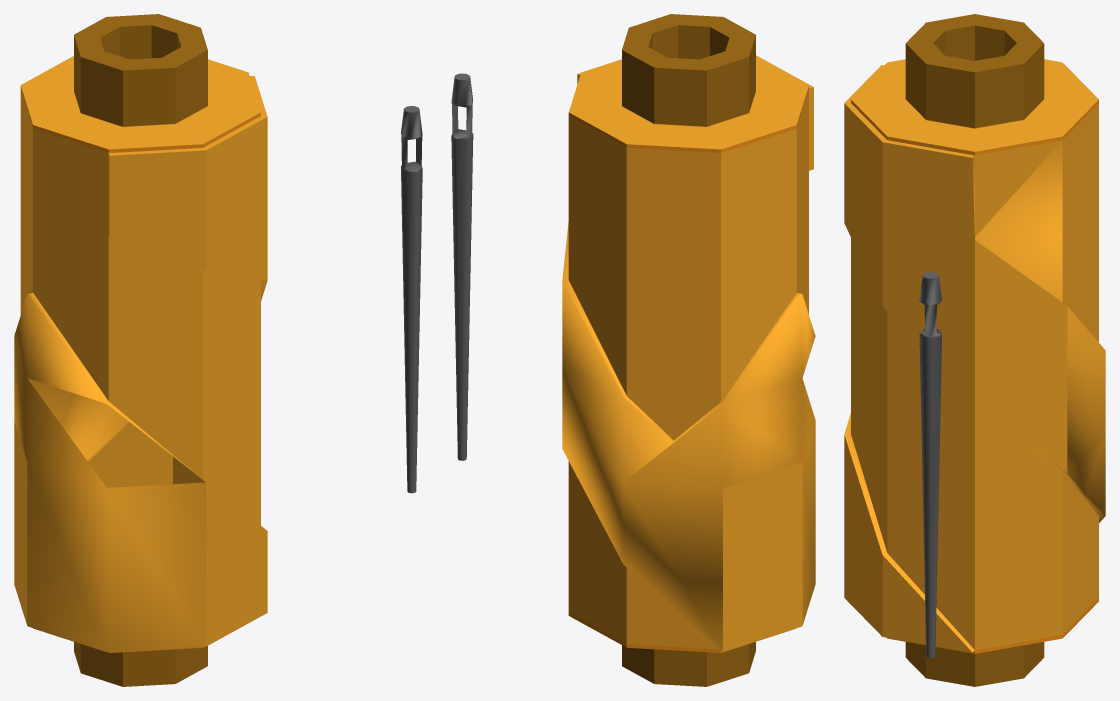
File: cuon-chi.glb
3 renders of one model, left to right at view 1: azimuth 30°, elevation 25°; view 2: azimuth 150°, elevation 25°; view 3: azimuth 270°, elevation 25°, orthographic.
Visible parts, largest first — view 1: cuon-chi; view 2: cuon-chi; view 3: cuon-chi.
Boxes of the visible parts, <box> form: cuon-chi: <box>14,14,422,686</box>; cuon-chi: <box>451,14,815,686</box>; cuon-chi: <box>844,14,1105,686</box>.
Bounding box in the file's own units: 0.3798 × 0.6 × 0.2314.
Materials: 2 (1 with a texture image).
